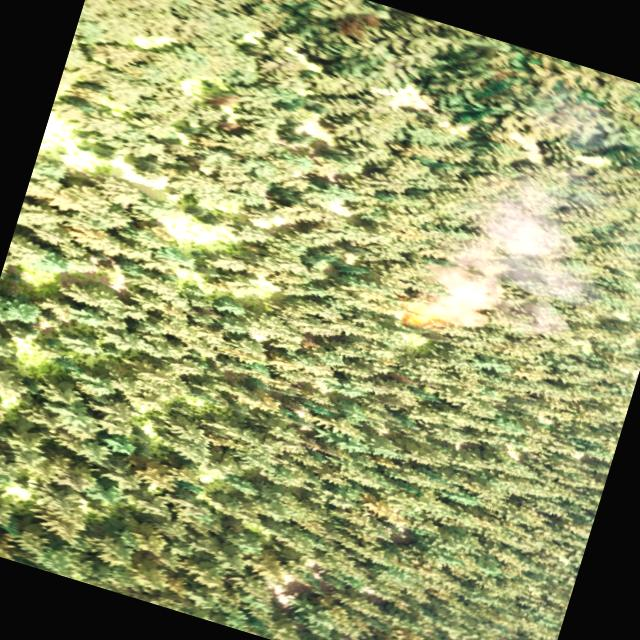fire: (397, 300, 438, 332)
smoke: (413, 149, 619, 358)
